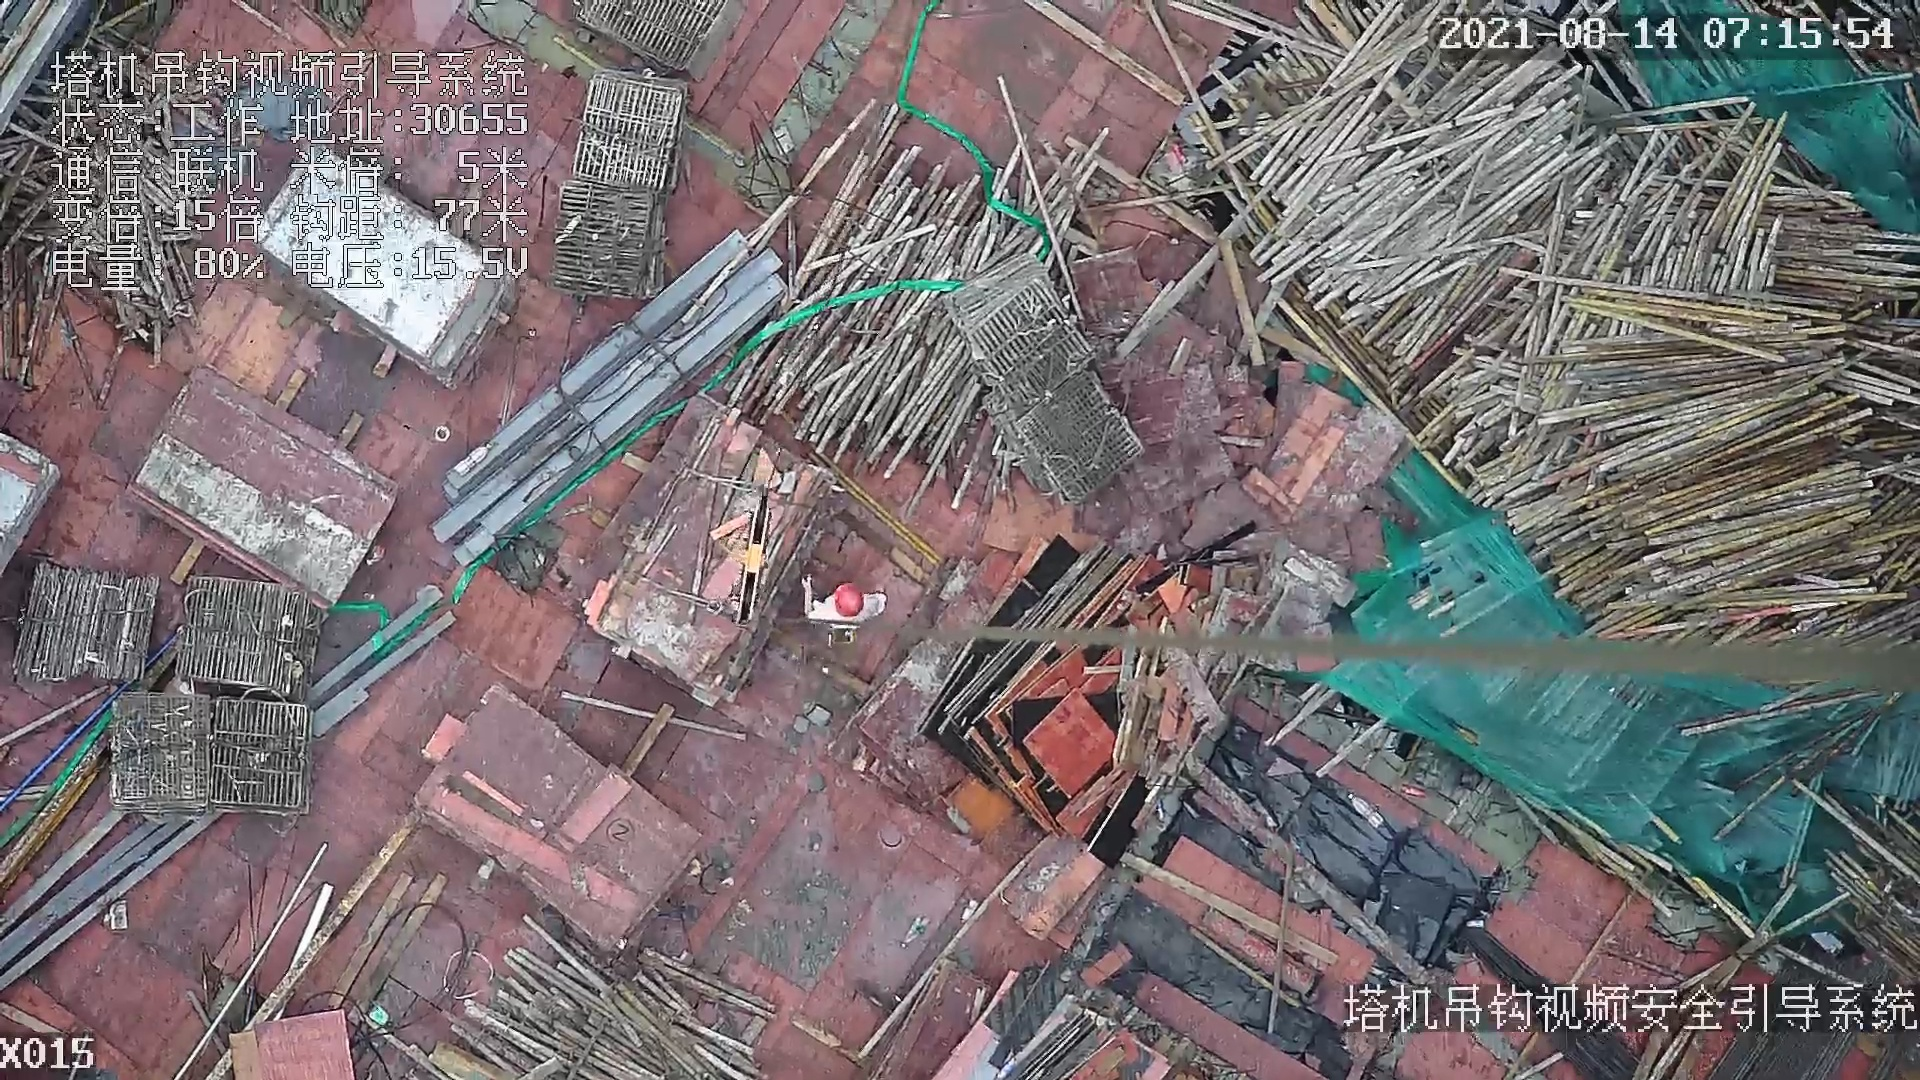helmet: (830, 583, 866, 617)
hook: (727, 490, 774, 628)
person: (800, 568, 896, 637)
